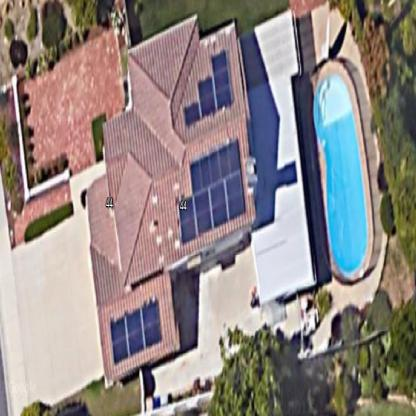pool: (310, 54, 374, 291)
